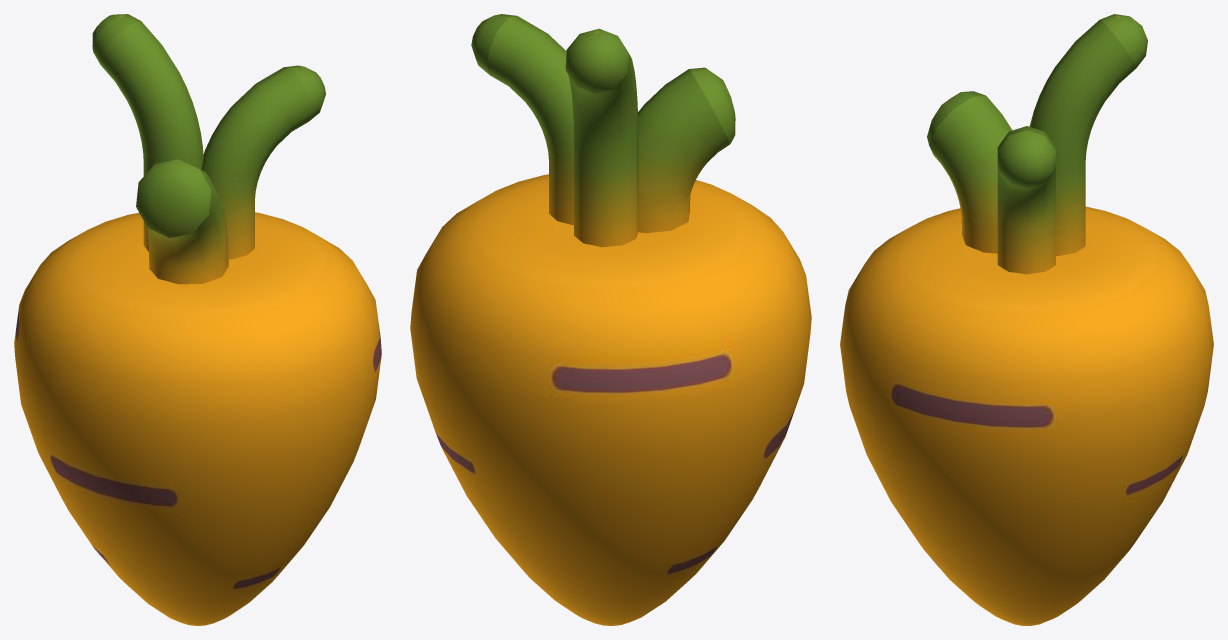
Rendered from Carrot.FBX.
3 renders of one model, left to right at view 1: azimuth 30°, elevation 25°; view 2: azimuth 150°, elevation 25°; view 3: azimuth 270°, elevation 25°, orthographic. The views are drawn at different scales.
Visible parts, largest first — view 1: havij; view 2: havij; view 3: havij.
Boxes of the visible parts, left/top/right/bottom form: havij: left=14, top=14, right=381, bottom=625; havij: left=410, top=14, right=811, bottom=625; havij: left=840, top=14, right=1213, bottom=625.
Bounding box in the file's own units: 31.85 × 55.63 × 31.85.
Materials: 1 (1 with a texture image).
